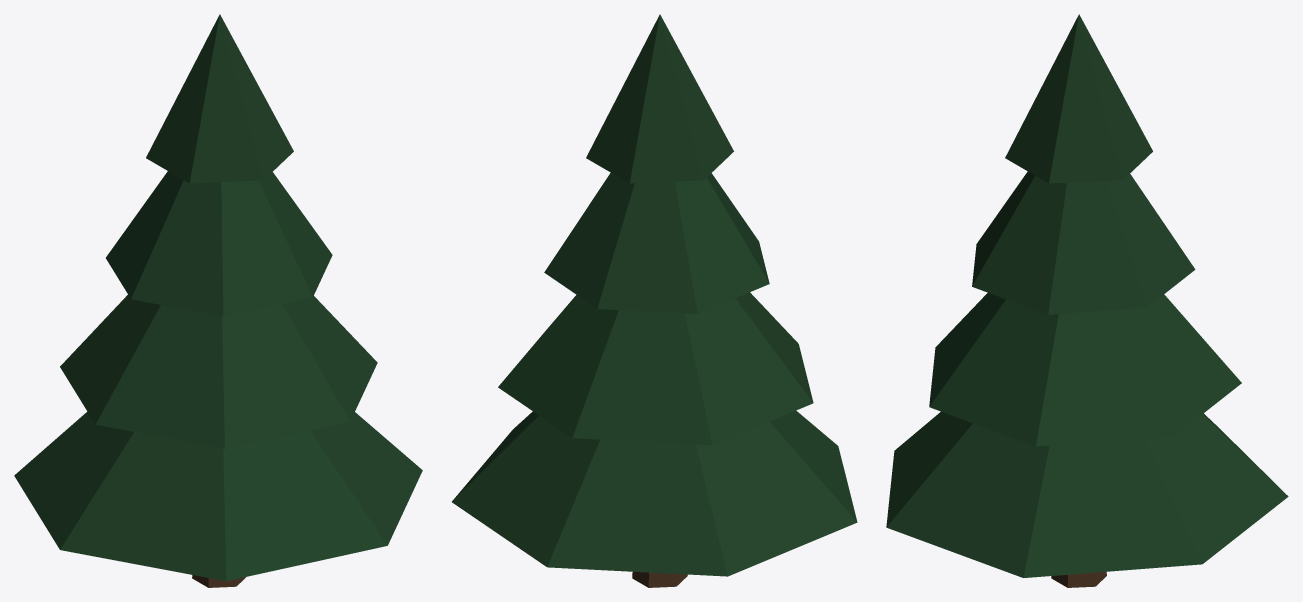
File: pino_alto.glb
3 views of the same model, side by side, from view 1: azimuth 30°, elevation 25°; view 2: azimuth 150°, elevation 25°; view 3: azimuth 270°, elevation 25° (orthographic).
Parts seen in each view (by area): view 1: Pine_0; view 2: Pine_0; view 3: Pine_0.
Boxes of the visible parts, x1,y1,x2,y2 form: Pine_0: (14, 14, 422, 587); Pine_0: (452, 14, 857, 587); Pine_0: (886, 14, 1288, 587).
Size of the model in its own units: 4.93 by 7.5 by 4.86.
